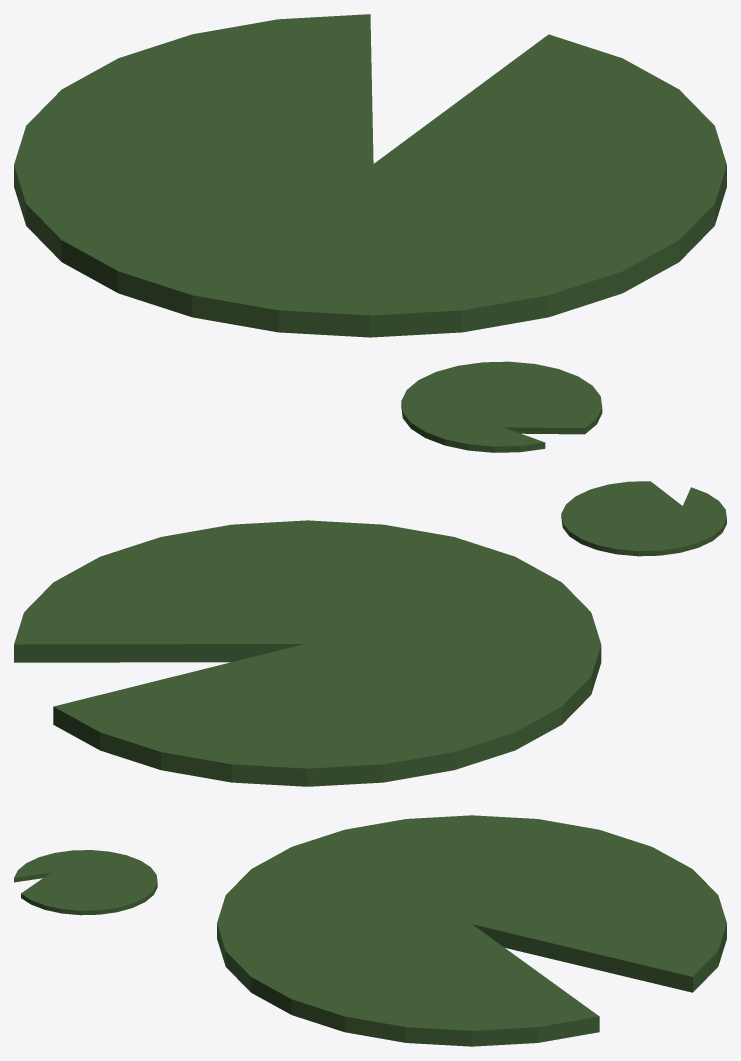
File: Lilypads.fbx
3 views of the same model, one above another, from view 1: azimuth 30°, elevation 25°; view 2: azimuth 150°, elevation 25°; view 3: azimuth 270°, elevation 25° (orthographic). The views are drawn at different scales.
Parts seen in each view (by area): view 1: Cylinder, Cylinder.001; view 2: Cylinder, Cylinder.001; view 3: Cylinder, Cylinder.001.
Boxes of the visible parts, x1,y1,x2,y2 form: Cylinder: (14, 14, 726, 337); Cylinder.001: (401, 361, 602, 452); Cylinder: (14, 520, 601, 786); Cylinder.001: (561, 481, 726, 556); Cylinder: (217, 815, 726, 1046); Cylinder.001: (14, 850, 157, 915).
Bounding box in the file's own units: 64.06 × 2.19 × 89.56.
